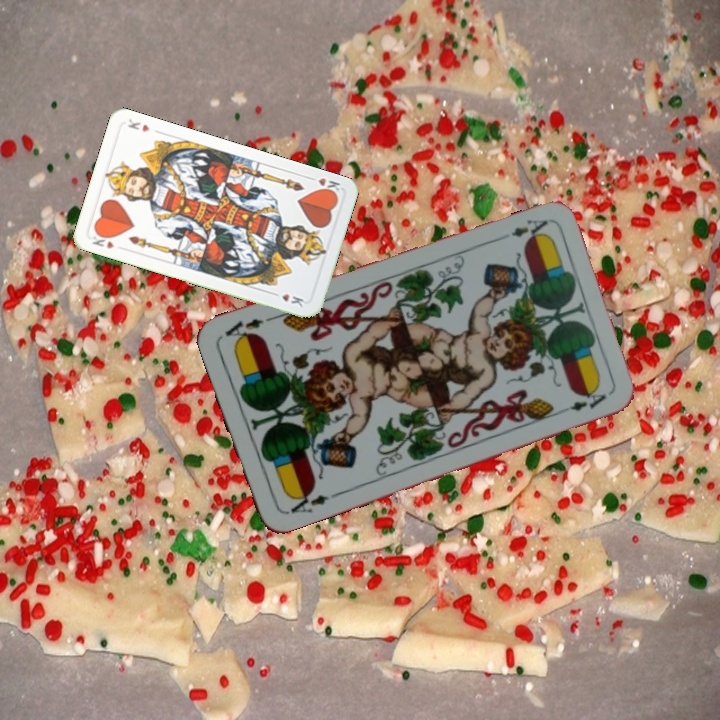EA: (281, 485, 331, 517), (507, 215, 551, 245)
HK: (304, 172, 343, 198), (88, 232, 116, 251)
